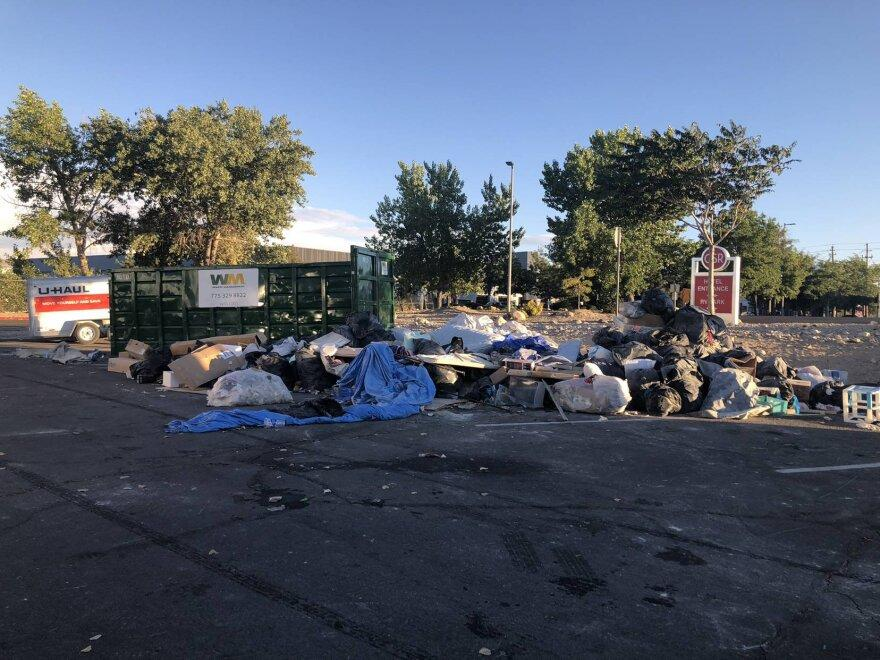road: (31, 442, 880, 648)
sky: (2, 0, 880, 80), (315, 98, 539, 154)
trash: (169, 308, 822, 404)
